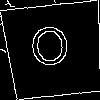O: (29, 25, 72, 77)
